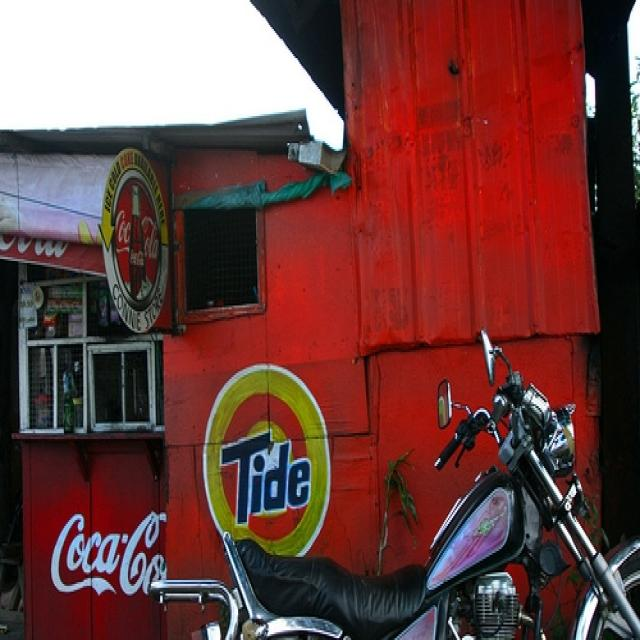cocacola: (43, 506, 169, 608)
